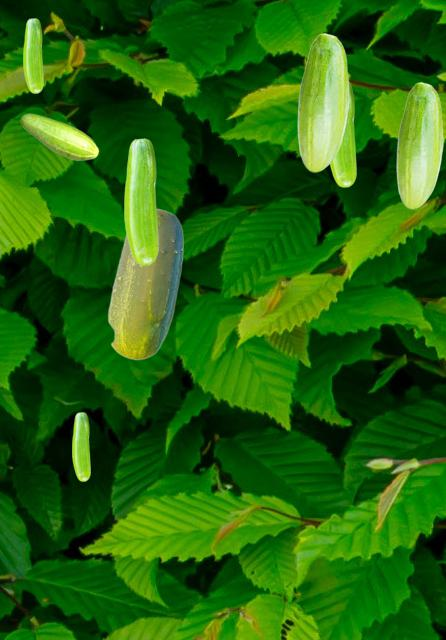cucumber: (107, 208, 182, 359), (297, 33, 348, 171), (396, 82, 442, 208), (124, 138, 157, 264), (20, 113, 98, 160), (330, 81, 355, 186), (23, 18, 42, 92), (72, 412, 89, 480)
